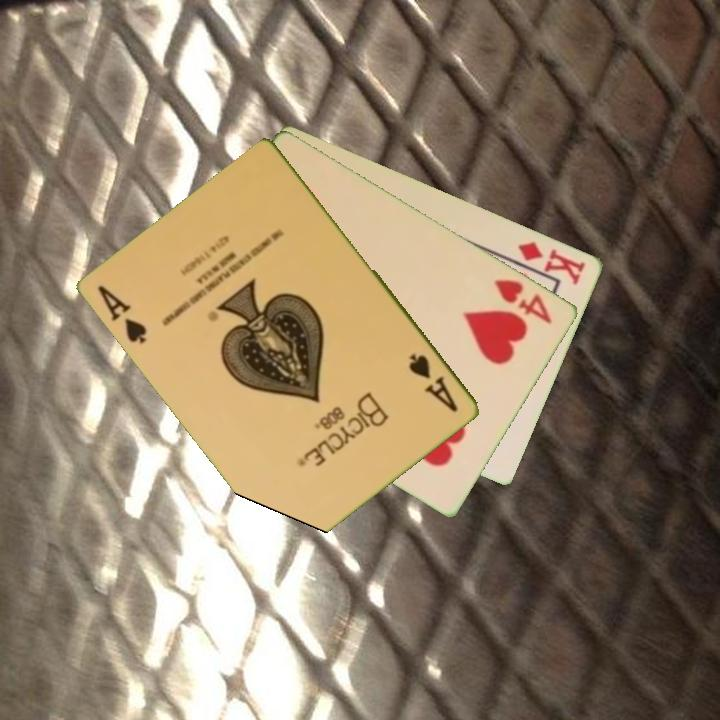4h: (491, 275, 556, 327)
As: (95, 281, 151, 347), (406, 350, 462, 415)
Kd: (515, 237, 589, 288)
